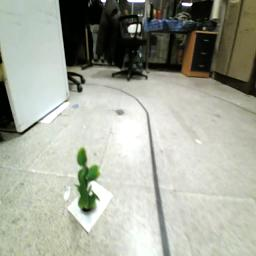herb: (75, 147, 103, 212)
